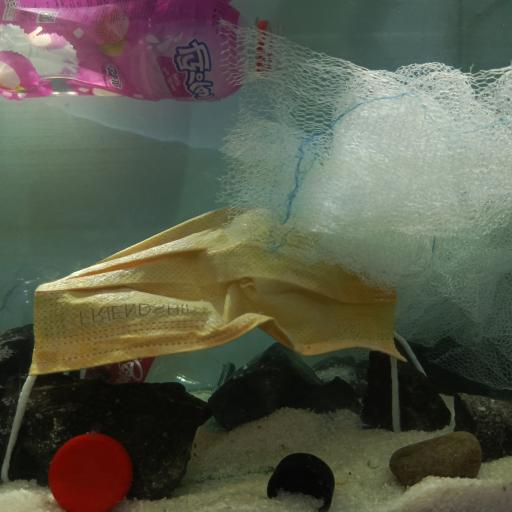bottle_cap: (48, 433, 133, 512), (267, 451, 336, 512)
mask: (31, 201, 408, 383)
net: (217, 16, 512, 394)
plastic_bottle: (1, 264, 238, 389), (0, 0, 285, 102)
